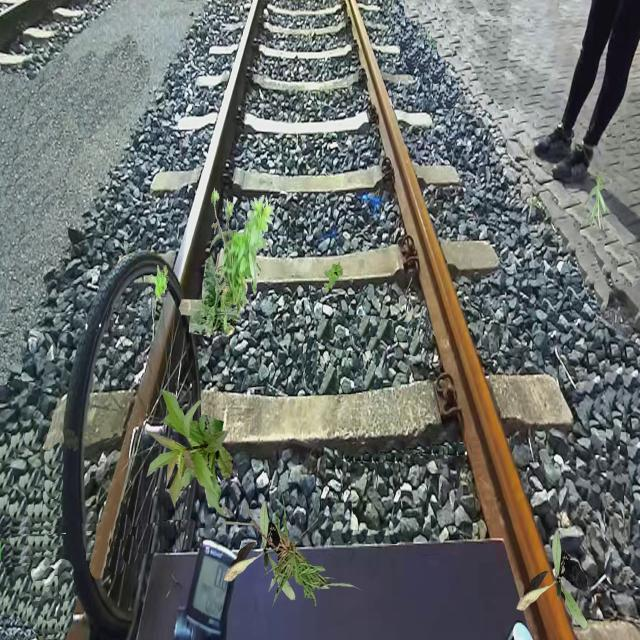Plant: (221, 490, 364, 610), (145, 389, 234, 519), (210, 187, 274, 330), (516, 530, 588, 630), (224, 501, 296, 600), (178, 254, 242, 337), (584, 175, 610, 232), (148, 265, 168, 298), (324, 260, 344, 292)
